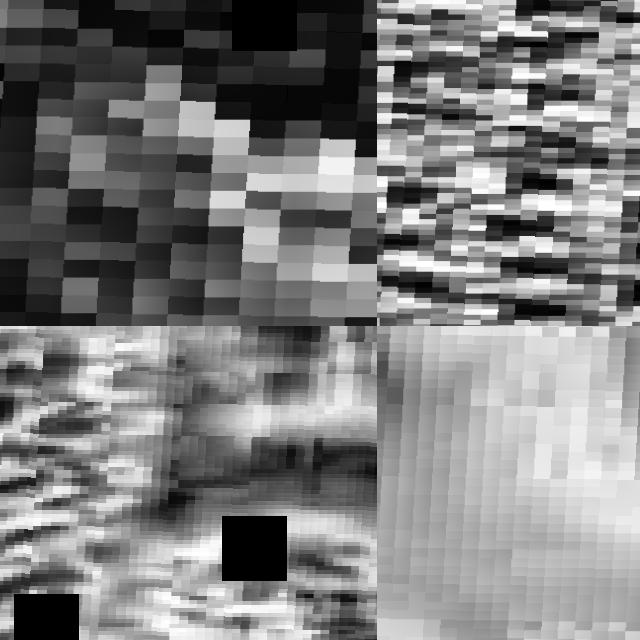crab: (0, 0, 377, 326)
fish: (0, 326, 377, 640), (377, 0, 640, 326), (377, 326, 640, 640)
